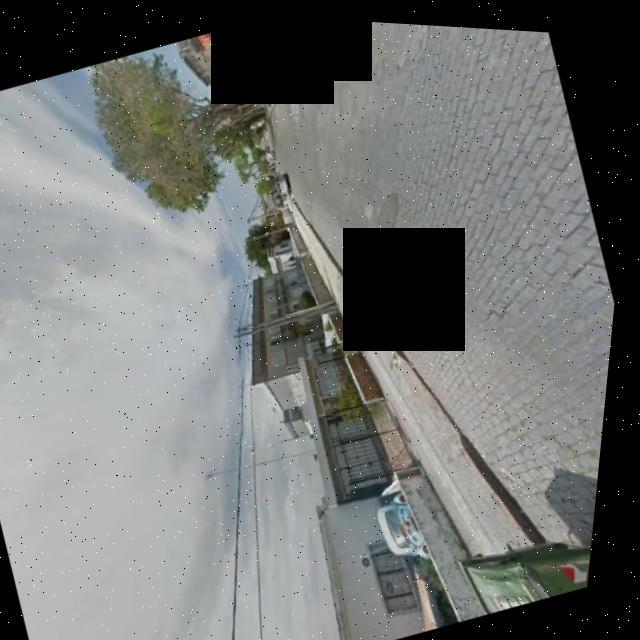bin: (441, 469, 606, 622)
